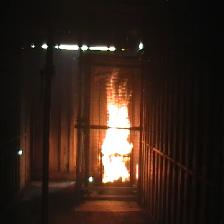fire: (102, 70, 132, 183)
